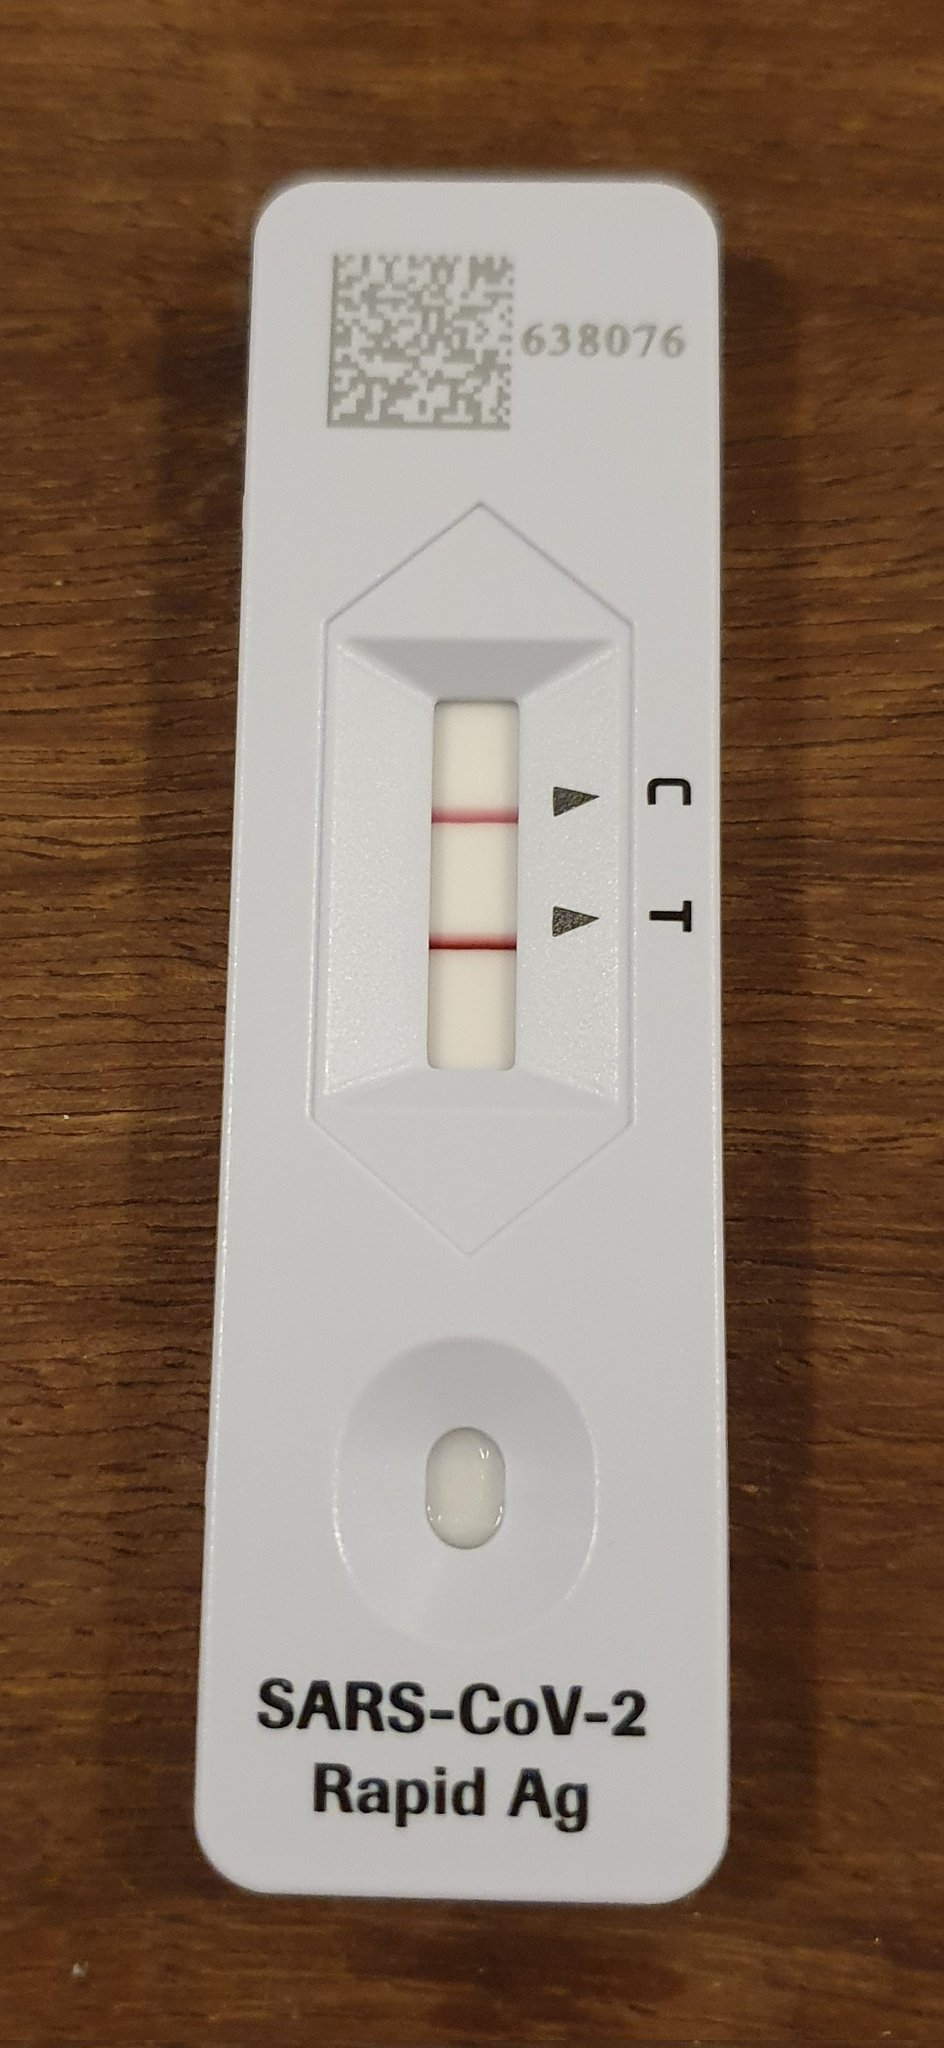positive: (388, 667, 537, 1128)
